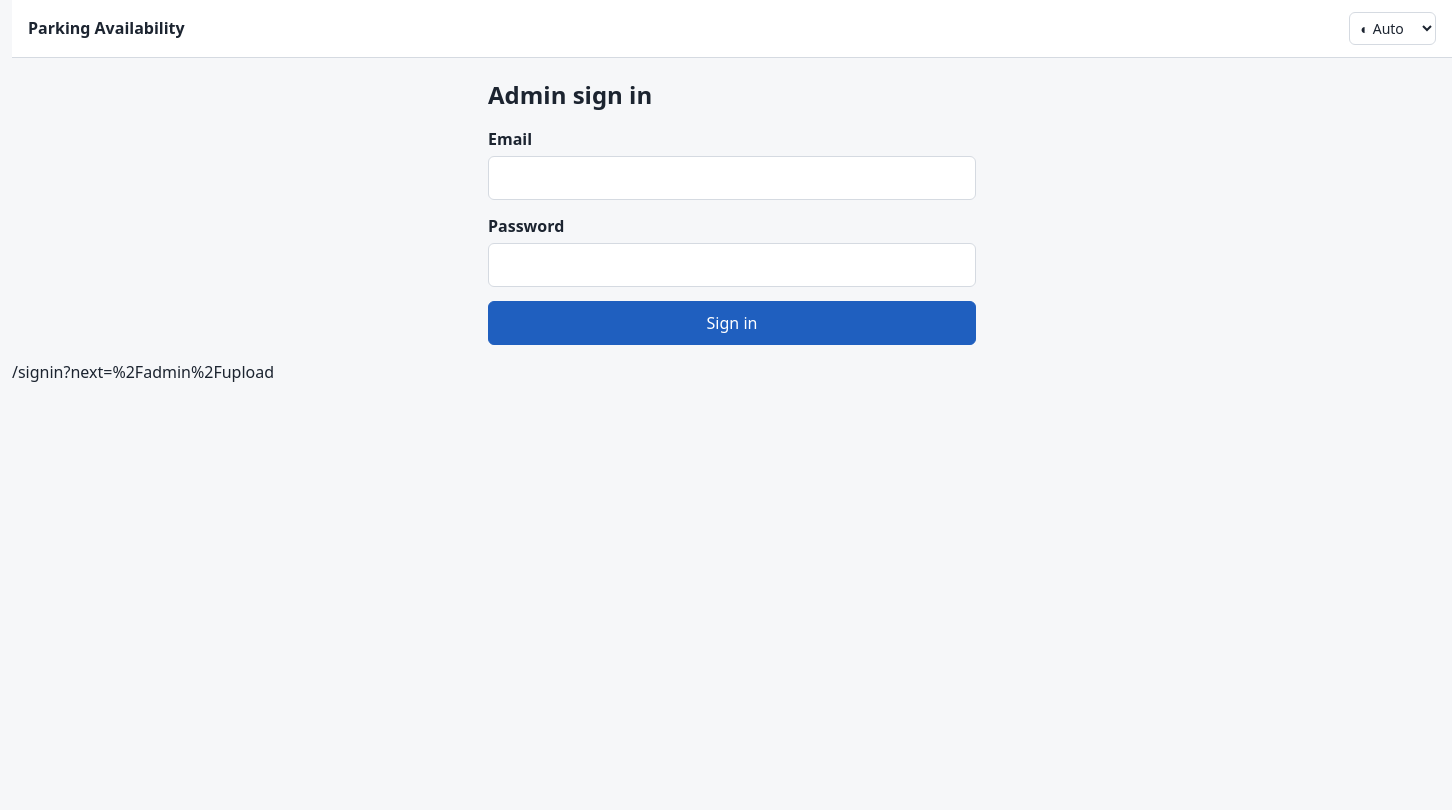
it: RequireAdmin › redirects to /signin with next and returns there after login
Expected: the text with test id "location" reads "/signin?next=%2Fadmin%2Fupload", x1=12 y1=361 x2=274 y2=383
Type "admin@example.edu" into the field labelled "Email" at (732,178), box x1=488 y1=156 x2=976 y2=200
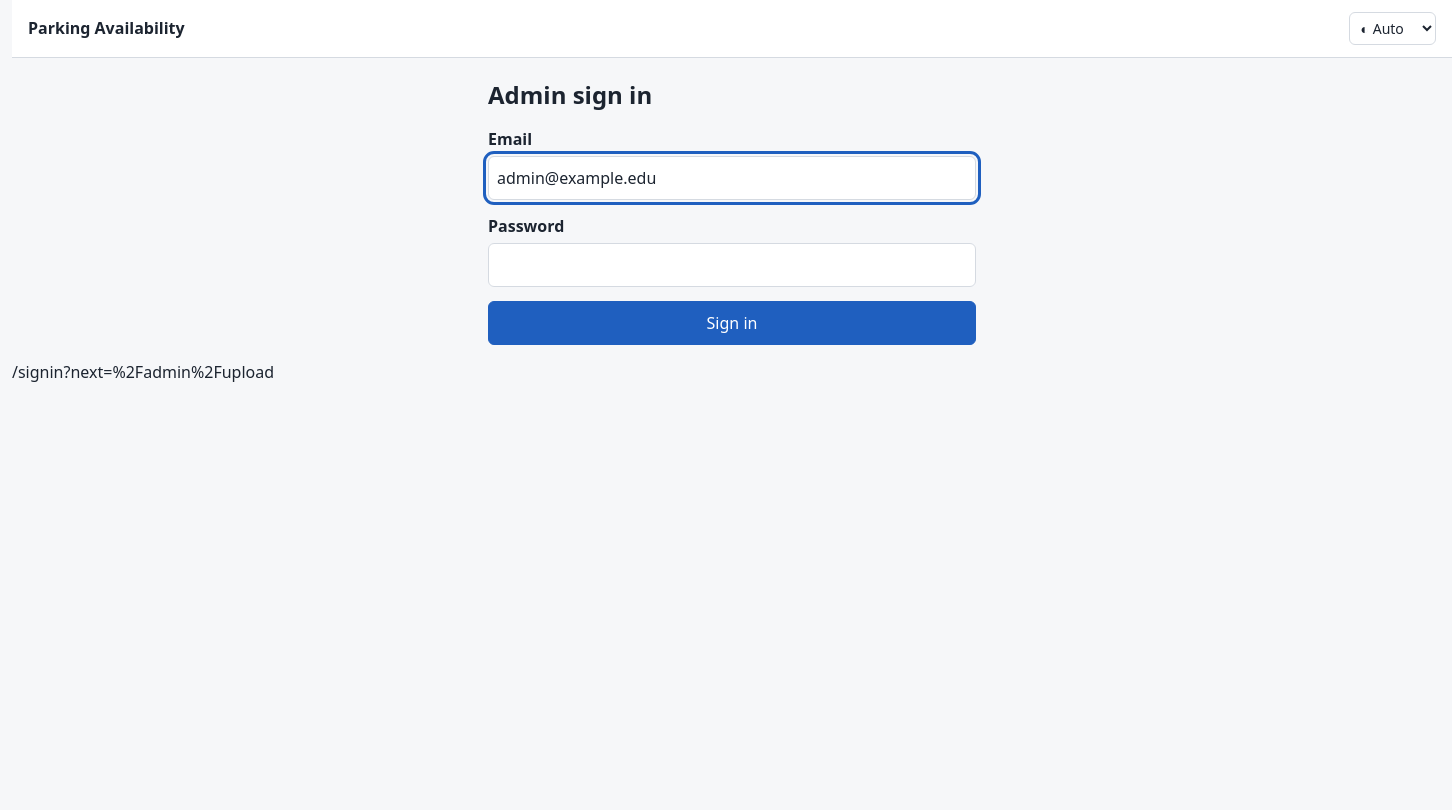
Type "pw" into the password field labelled "Password" at (732,265), box x1=488 y1=243 x2=976 y2=287
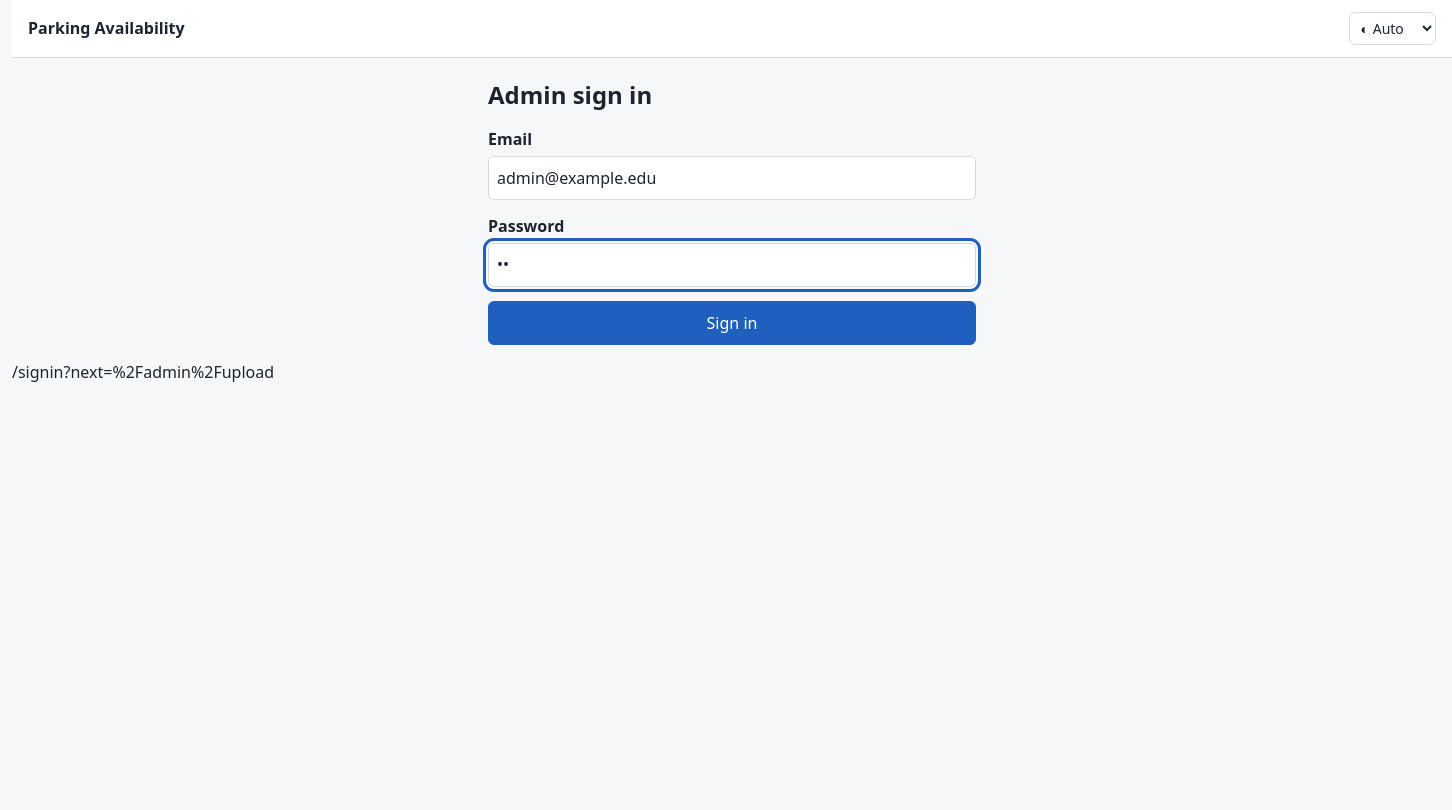
Click the button "Sign in" at (732,323), box x1=488 y1=301 x2=976 y2=345
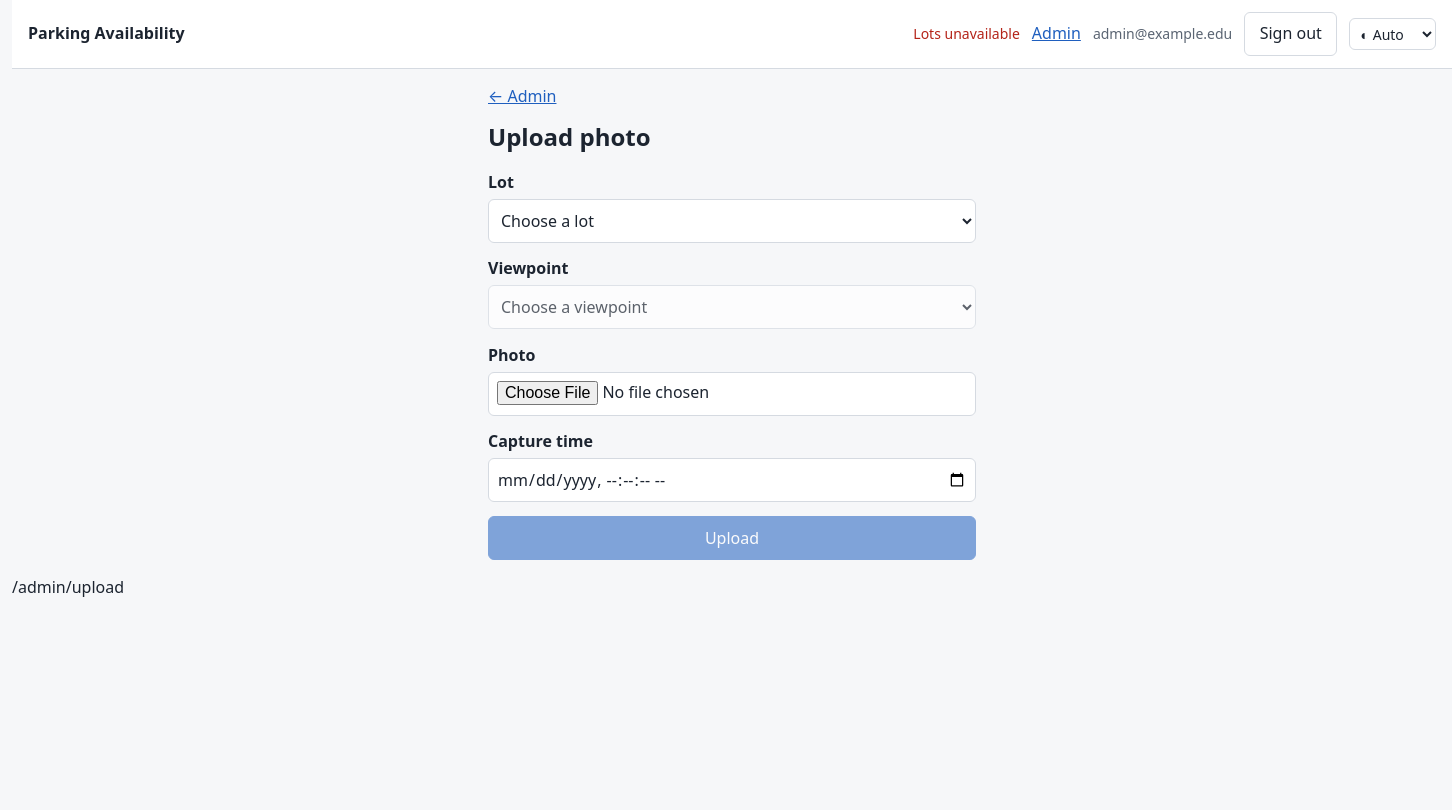
Result: the heading "Upload photo" is shown at x1=488 y1=120 x2=650 y2=153
Result: the text with test id "location" reads "/admin/upload" at x1=12 y1=576 x2=124 y2=598
